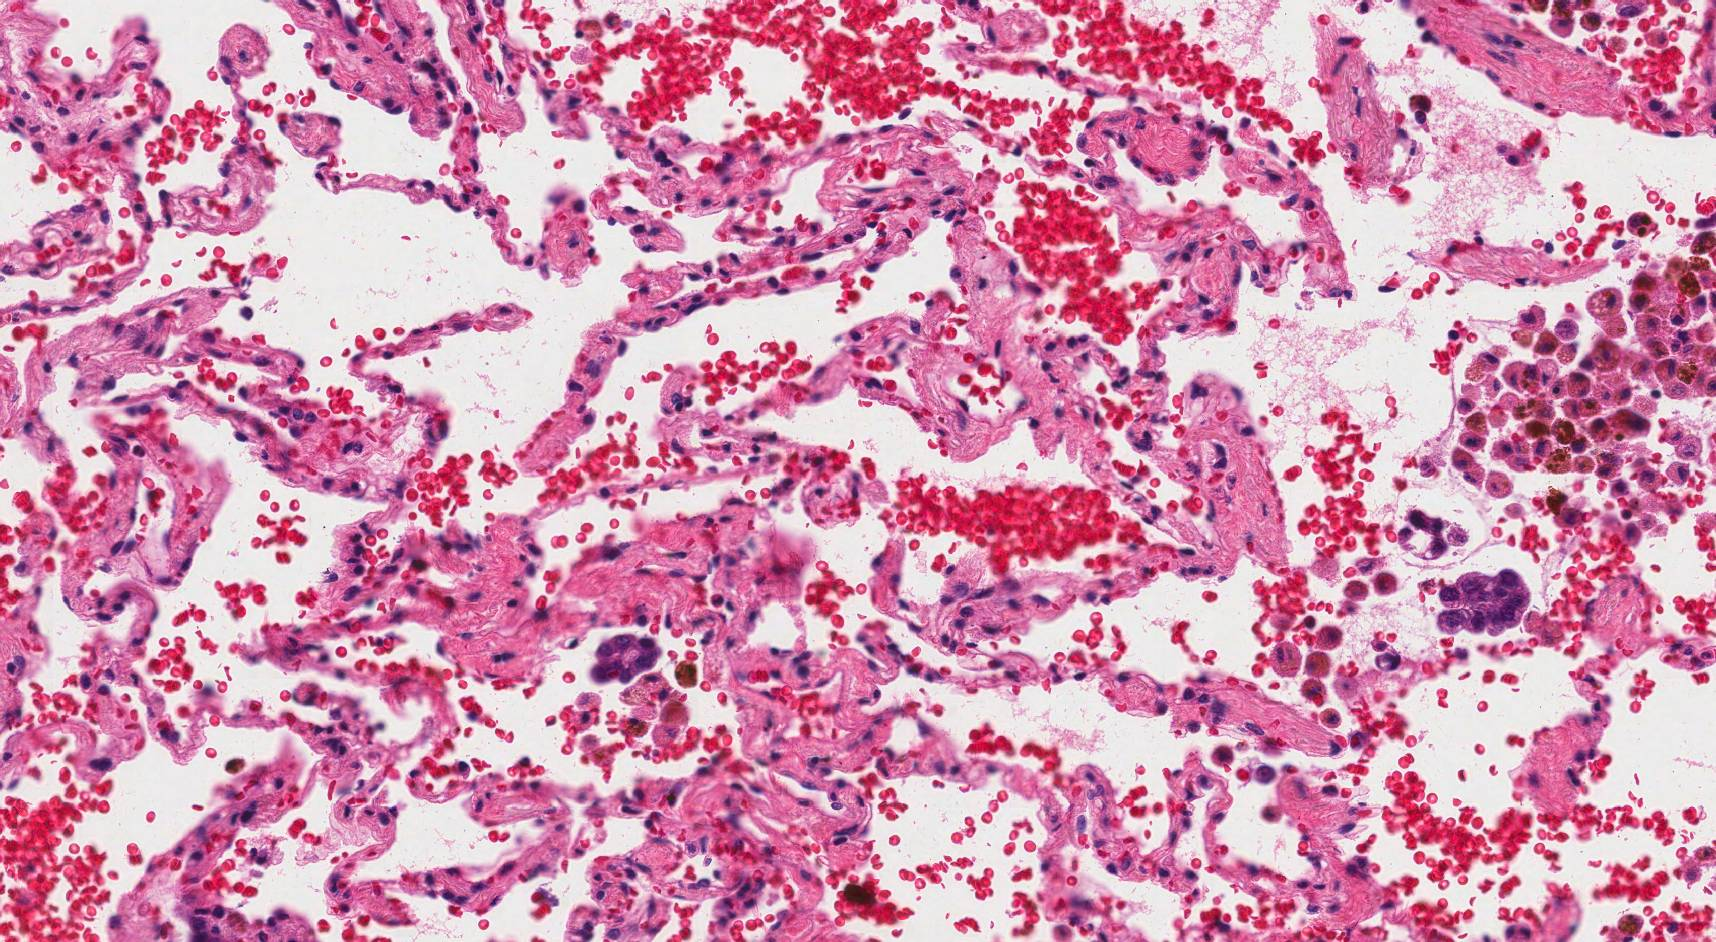stas: (1439, 567, 1532, 634), (589, 633, 664, 685)
